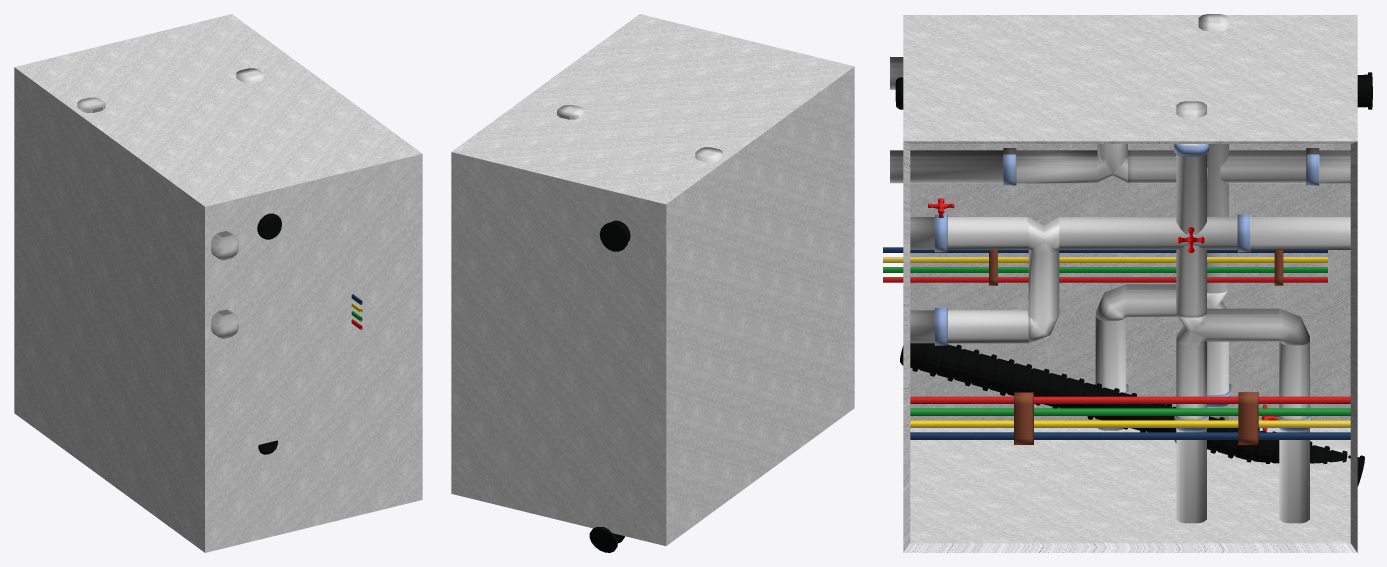
Rendered from ar maintenance.fbx.
3 views of the same model, side by side, from view 1: azimuth 30°, elevation 25°; view 2: azimuth 150°, elevation 25°; view 3: azimuth 270°, elevation 25° (orthographic). The views are drawn at different scales.
Visible parts, largest first — view 1: Cube; view 2: Cube; view 3: Cube.
Part boxes in pixels (x1=…): Cube: x1=14, y1=14, x2=422, y2=552; Cube: x1=451, y1=14, x2=854, y2=552; Cube: x1=883, y1=14, x2=1372, y2=552.
Bounding box in the file's own units: 1035 × 1693 × 1696.
